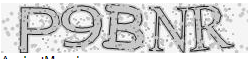9: (60, 4, 104, 56)
B: (102, 3, 146, 53)
N: (147, 4, 188, 55)
P: (17, 4, 61, 56)
R: (187, 4, 236, 53)
